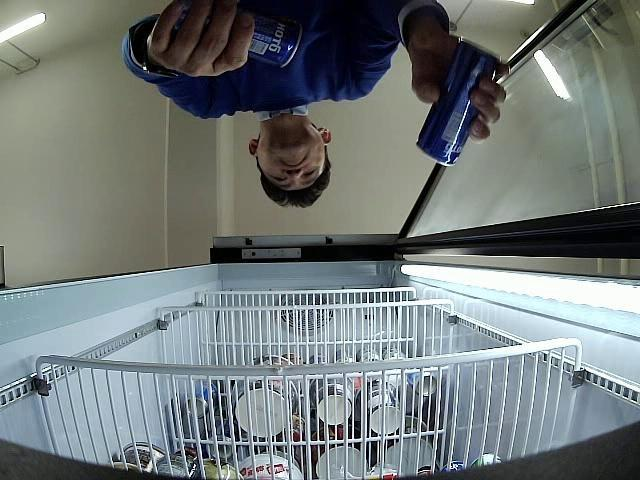16_hot6: (415, 36, 502, 166), (174, 0, 304, 68)
